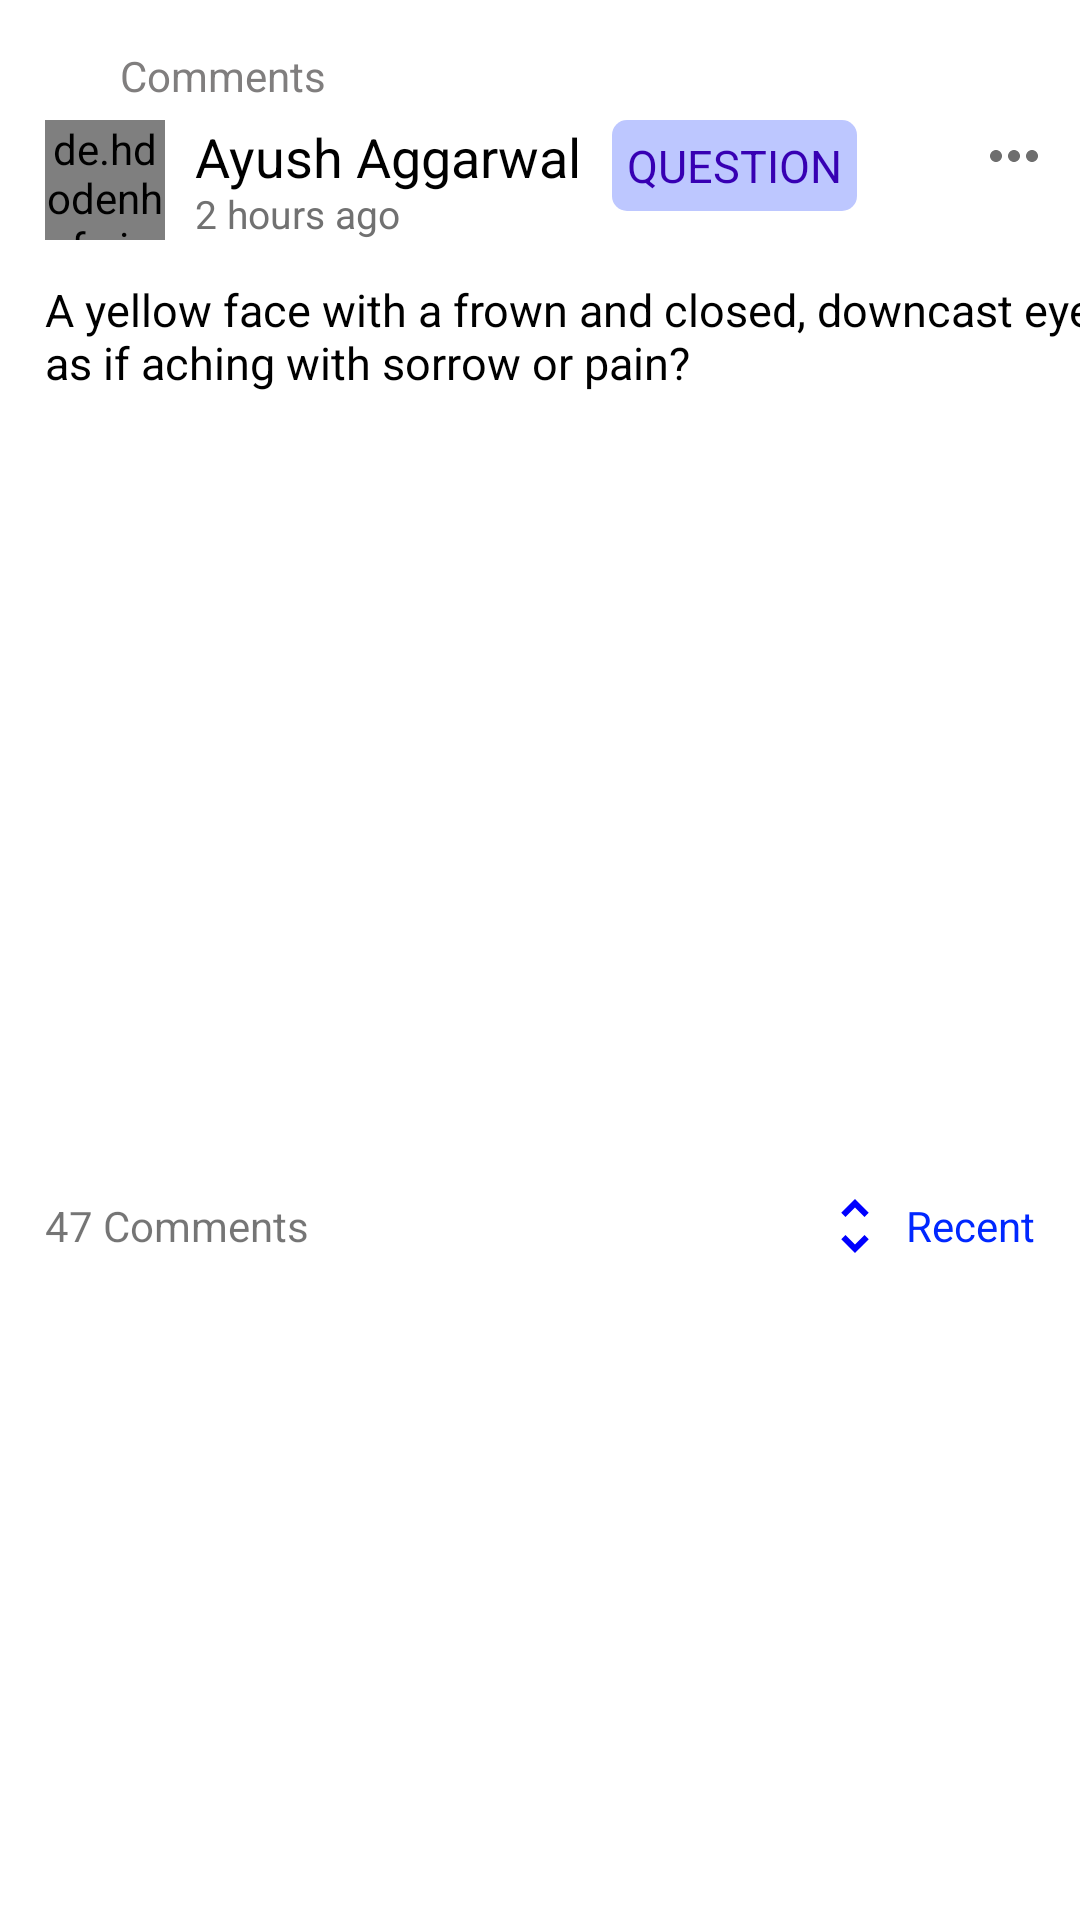

Screen size 1080×1920. Icon name, then its box in pixels as (x1, y1, x2, y2):
more horiz: (990, 150, 1038, 162)
unfold more: (841, 1199, 869, 1253)
